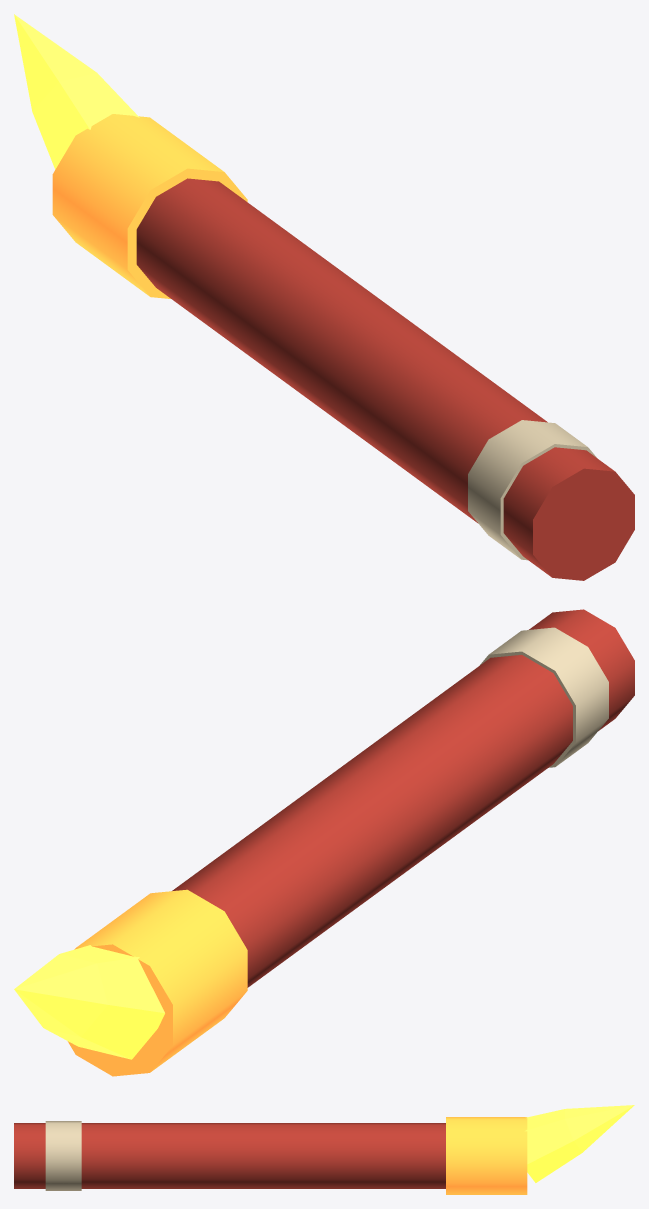
Rendered from flare_launcher.glb.
3 views of the same model, one above another, from view 1: azimuth 30°, elevation 25°; view 2: azimuth 150°, elevation 25°; view 3: azimuth 270°, elevation 25° (orthographic). The views are drawn at different scales.
Parts seen in each view (by area): view 1: _MeshInstance3D_4462, _MeshInstance3D_4464, _MeshInstance3D_4465, _MeshInstance3D_4463; view 2: _MeshInstance3D_4462, _MeshInstance3D_4464, _MeshInstance3D_4465, _MeshInstance3D_4463; view 3: _MeshInstance3D_4462, _MeshInstance3D_4464, _MeshInstance3D_4465, _MeshInstance3D_4463.
Boxes of the visible parts, x1=… form: _MeshInstance3D_4462: x1=136, y1=178, x2=634, y2=580; _MeshInstance3D_4464: x1=52, y1=114, x2=247, y2=298; _MeshInstance3D_4465: x1=14, y1=14, x2=139, y2=169; _MeshInstance3D_4463: x1=468, y1=420, x2=596, y2=560; _MeshInstance3D_4462: x1=172, y1=609, x2=634, y2=987; _MeshInstance3D_4464: x1=67, y1=889, x2=247, y2=1076; _MeshInstance3D_4465: x1=14, y1=945, x2=164, y2=1059; _MeshInstance3D_4463: x1=479, y1=627, x2=608, y2=767; _MeshInstance3D_4462: x1=14, y1=1123, x2=445, y2=1188; _MeshInstance3D_4464: x1=446, y1=1117, x2=527, y2=1194; _MeshInstance3D_4465: x1=525, y1=1105, x2=634, y2=1182; _MeshInstance3D_4463: x1=45, y1=1121, x2=81, y2=1190.
Size of the model in its own units: 0.038 by 0.0483 by 0.3127.
